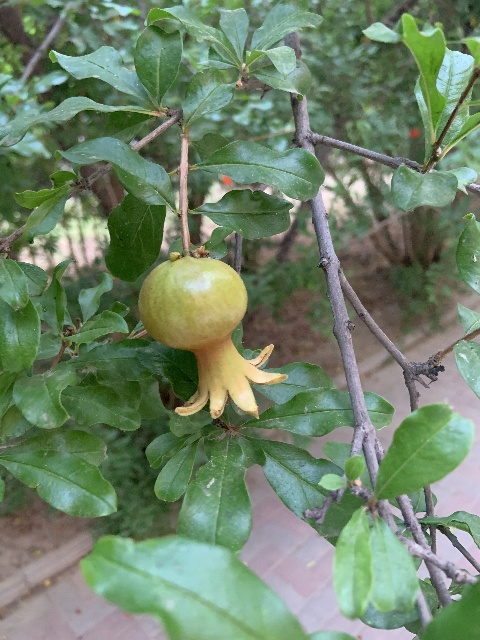mid-growth: (137, 256, 288, 420)
